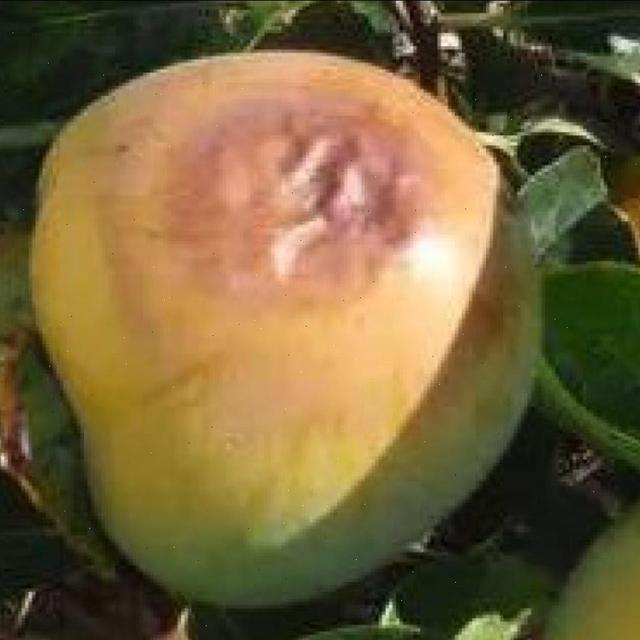Sunscald Fruit: (98, 62, 326, 226)
